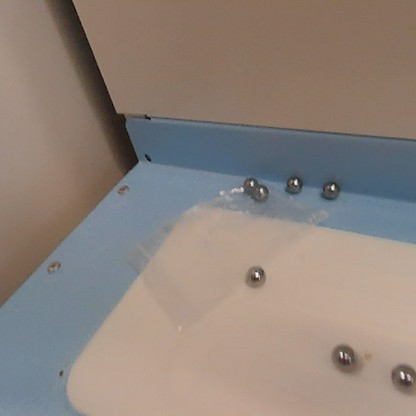ironball: (384, 358, 414, 399), (327, 339, 359, 375), (240, 265, 267, 294), (320, 178, 345, 201), (250, 181, 272, 204), (283, 173, 302, 195), (239, 174, 257, 188)
